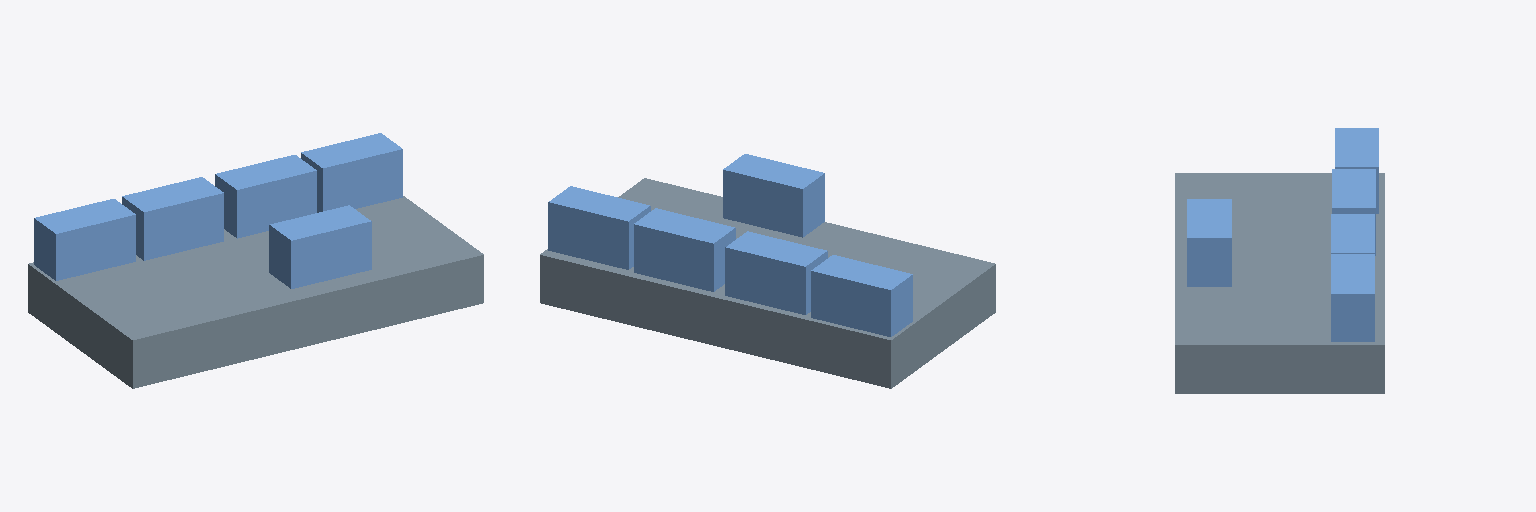
File: newscene.obj
The picture shows the model from 3 angles: view 1: azimuth 30°, elevation 25°; view 2: azimuth 150°, elevation 25°; view 3: azimuth 270°, elevation 25°; orthographic projection.
Visible parts, largest first — view 1: cube32, cube33; view 2: cube32, cube33; view 3: cube32, cube33.
Part boxes in pixels (x1,y1,x2,y2): cube32: (28, 196, 483, 388); cube33: (34, 133, 402, 288); cube32: (540, 178, 995, 388); cube33: (548, 154, 912, 336); cube32: (1175, 173, 1384, 393); cube33: (1187, 128, 1378, 341).
Size of the model in its own units: 1941 by 546 by 1003.